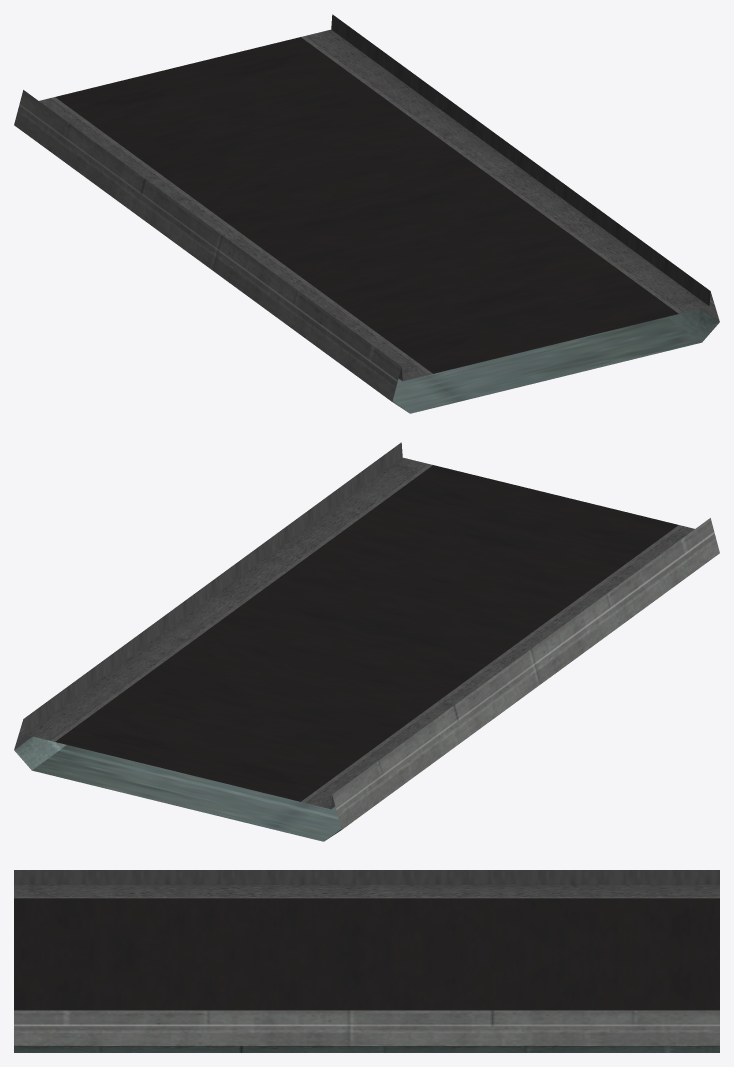
Rendered from RJs_Road 3+3 Elevated Node_lod.fbx.
3 renders of one model, top to bottom at view 1: azimuth 30°, elevation 25°; view 2: azimuth 150°, elevation 25°; view 3: azimuth 270°, elevation 25°, orthographic. The views are drawn at different scales.
Parts seen in each view (by area): view 1: plane_lod; view 2: plane_lod; view 3: plane_lod.
Part boxes in pixels (box(x1,y1,x2,y2)): plane_lod: box(14, 14, 719, 413); plane_lod: box(14, 442, 719, 841); plane_lod: box(14, 870, 719, 1052).
Bounding box in the file's own units: 3200 × 6400 × 462.
